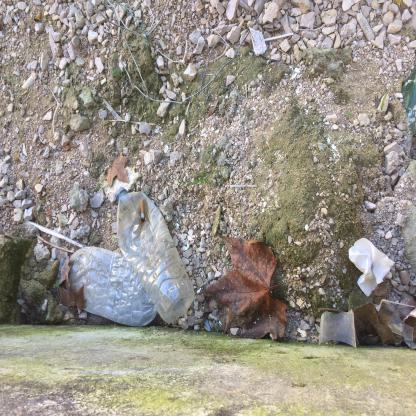kagit: (349, 239, 397, 299), (250, 28, 268, 56)
plastik: (116, 187, 197, 327), (59, 246, 161, 327), (370, 297, 416, 343), (320, 310, 358, 350)
